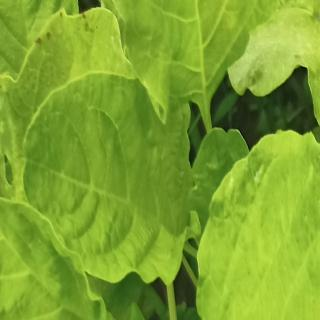karat_putih: (243, 8, 320, 128)
